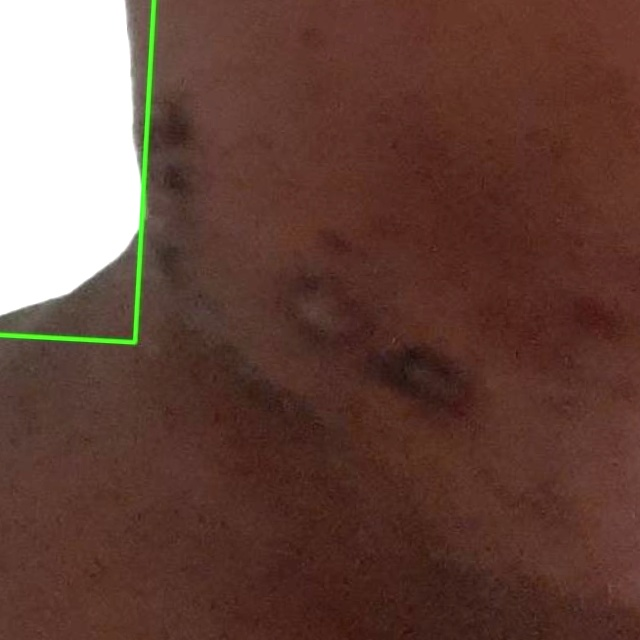Contact Dermatitis: (0, 0, 154, 342)
